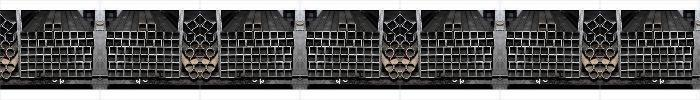pipe: (386, 20, 398, 31), (202, 20, 214, 31), (402, 20, 414, 31), (186, 20, 198, 31), (586, 20, 598, 31), (2, 20, 14, 31), (602, 20, 614, 31), (385, 63, 394, 72), (206, 63, 215, 72), (406, 63, 415, 72), (185, 63, 194, 72), (585, 63, 594, 72), (6, 63, 15, 72), (606, 63, 615, 72), (348, 53, 356, 62), (387, 33, 395, 42), (385, 49, 394, 57), (244, 53, 252, 62), (444, 53, 452, 62), (148, 53, 156, 62), (548, 53, 556, 62), (44, 53, 52, 62), (644, 53, 652, 62), (205, 33, 213, 42), (405, 33, 413, 42), (187, 33, 195, 42), (587, 33, 595, 42), (5, 33, 13, 42), (605, 33, 613, 42), (206, 49, 215, 57), (406, 49, 415, 57), (185, 49, 194, 57), (585, 49, 594, 57), (6, 49, 15, 57), (606, 49, 615, 57), (346, 39, 354, 47), (363, 39, 371, 47), (340, 46, 348, 54), (331, 54, 339, 62), (340, 54, 348, 62), (308, 62, 316, 70), (340, 62, 348, 70), (348, 62, 356, 70), (363, 62, 371, 70), (391, 41, 399, 49), (391, 56, 399, 64), (390, 70, 398, 78), (246, 39, 254, 47), (446, 39, 454, 47), (146, 39, 154, 47), (546, 39, 554, 47), (46, 39, 54, 47), (646, 39, 654, 47), (229, 39, 237, 47), (429, 39, 437, 47), (163, 39, 171, 47), (563, 39, 571, 47), (29, 39, 37, 47), (629, 39, 637, 47), (252, 46, 260, 54), (452, 46, 460, 54), (140, 46, 148, 54), (540, 46, 548, 54), (52, 46, 60, 54), (652, 46, 660, 54), (261, 54, 269, 62), (461, 54, 469, 62), (131, 54, 139, 62), (531, 54, 539, 62), (61, 54, 69, 62), (661, 54, 669, 62), (252, 54, 260, 62), (452, 54, 460, 62), (140, 54, 148, 62), (540, 54, 548, 62), (52, 54, 60, 62), (652, 54, 660, 62), (236, 54, 244, 62), (436, 54, 444, 62), (156, 54, 164, 62), (556, 54, 564, 62), (36, 54, 44, 62), (636, 54, 644, 62), (284, 62, 292, 70), (484, 62, 492, 70), (108, 62, 116, 70), (508, 62, 516, 70), (84, 62, 92, 70), (684, 62, 692, 70), (252, 62, 260, 70), (452, 62, 460, 70), (140, 62, 148, 70), (540, 62, 548, 70), (52, 62, 60, 70), (652, 62, 660, 70), (244, 62, 252, 70), (444, 62, 452, 70), (148, 62, 156, 70), (548, 62, 556, 70), (44, 62, 52, 70), (644, 62, 652, 70), (229, 62, 237, 70), (429, 62, 437, 70), (163, 62, 171, 70), (563, 62, 571, 70), (29, 62, 37, 70), (629, 62, 637, 70), (201, 41, 209, 49), (401, 41, 409, 49), (191, 41, 199, 49), (591, 41, 599, 49), (1, 41, 9, 49), (601, 41, 609, 49), (201, 56, 209, 64), (401, 56, 409, 64), (191, 56, 199, 64), (591, 56, 599, 64), (1, 56, 9, 64), (601, 56, 609, 64), (202, 70, 210, 78), (402, 70, 410, 78), (190, 70, 198, 78), (590, 70, 598, 78), (2, 70, 10, 78), (602, 70, 610, 78), (338, 24, 346, 31), (322, 31, 330, 38), (356, 54, 363, 62), (364, 55, 372, 62), (356, 62, 363, 70), (254, 24, 262, 31), (454, 24, 462, 31), (138, 24, 146, 31), (538, 24, 546, 31), (54, 24, 62, 31), (654, 24, 662, 31), (270, 31, 278, 38), (470, 31, 478, 38), (122, 31, 130, 38), (522, 31, 530, 38), (70, 31, 78, 38), (670, 31, 678, 38), (109, 46, 116, 54), (228, 55, 236, 62), (428, 55, 436, 62), (164, 55, 172, 62), (564, 55, 572, 62), (28, 55, 36, 62), (628, 55, 636, 62), (238, 62, 245, 70), (222, 62, 229, 70), (421, 62, 428, 70), (21, 62, 28, 70), (363, 31, 370, 38), (46, 24, 53, 31), (63, 31, 70, 38), (55, 31, 62, 38), (46, 31, 53, 38), (222, 31, 229, 38), (421, 31, 428, 38), (21, 31, 28, 38), (71, 38, 78, 45), (222, 55, 229, 62), (421, 55, 428, 62), (21, 55, 28, 62), (310, 46, 316, 54), (318, 46, 324, 54), (332, 47, 340, 53), (348, 47, 356, 53), (324, 54, 330, 62), (332, 63, 340, 69), (372, 62, 378, 70), (324, 70, 332, 76), (364, 70, 372, 76), (372, 71, 380, 77), (284, 46, 290, 54), (484, 46, 490, 54), (510, 46, 516, 54), (84, 46, 90, 54), (684, 46, 690, 54), (276, 46, 282, 54), (476, 46, 482, 54), (118, 46, 124, 54), (518, 46, 524, 54), (76, 46, 82, 54), (676, 46, 682, 54), (260, 47, 268, 53), (132, 47, 140, 53), (532, 47, 540, 53), (60, 47, 68, 53), (660, 47, 668, 53), (444, 47, 452, 53), (148, 47, 156, 53), (548, 47, 556, 53), (44, 47, 52, 53), (644, 47, 652, 53), (236, 47, 244, 53), (436, 47, 444, 53), (156, 47, 164, 53), (556, 47, 564, 53), (36, 47, 44, 53), (636, 47, 644, 53), (270, 54, 276, 62), (470, 54, 476, 62), (124, 54, 130, 62), (524, 54, 530, 62), (70, 54, 76, 62), (670, 54, 676, 62), (260, 63, 268, 69), (132, 63, 140, 69), (532, 63, 540, 69), (60, 63, 68, 69), (660, 63, 668, 69), (438, 62, 444, 70), (156, 62, 162, 70), (556, 62, 562, 70), (38, 62, 44, 70), (638, 62, 644, 70), (172, 62, 178, 70), (572, 62, 578, 70), (622, 62, 628, 70), (268, 70, 276, 76), (468, 70, 476, 76), (124, 70, 132, 76), (524, 70, 532, 76), (68, 70, 76, 76), (668, 70, 676, 76), (228, 70, 236, 76), (428, 70, 436, 76), (164, 70, 172, 76), (564, 70, 572, 76), (28, 70, 36, 76), (628, 70, 636, 76), (220, 71, 228, 77), (172, 71, 180, 77), (572, 71, 580, 77), (20, 71, 28, 77), (620, 71, 628, 77), (348, 24, 354, 31), (307, 31, 313, 38), (315, 31, 321, 38), (330, 31, 336, 38), (338, 31, 344, 38), (348, 31, 354, 38), (372, 31, 378, 38), (322, 38, 328, 45), (356, 47, 363, 53), (363, 48, 370, 54), (372, 55, 378, 62), (246, 24, 252, 31), (446, 24, 452, 31), (148, 24, 154, 31), (548, 24, 554, 31), (646, 24, 652, 31), (287, 31, 293, 38), (487, 31, 493, 38), (107, 31, 113, 38), (507, 31, 513, 38), (87, 31, 93, 38), (687, 31, 693, 38), (279, 31, 285, 38), (479, 31, 485, 38), (115, 31, 121, 38), (515, 31, 521, 38), (79, 31, 85, 38), (679, 31, 685, 38), (264, 31, 270, 38), (464, 31, 470, 38), (130, 31, 136, 38), (530, 31, 536, 38), (664, 31, 670, 38), (256, 31, 262, 38), (456, 31, 462, 38), (138, 31, 144, 38), (538, 31, 544, 38), (656, 31, 662, 38), (246, 31, 252, 38), (446, 31, 452, 38), (148, 31, 154, 38), (548, 31, 554, 38), (646, 31, 652, 38), (230, 31, 236, 38), (430, 31, 436, 38), (164, 31, 170, 38), (564, 31, 570, 38), (30, 31, 36, 38), (630, 31, 636, 38), (172, 31, 178, 38), (572, 31, 578, 38), (622, 31, 628, 38), (106, 39, 113, 45), (505, 39, 512, 45), (479, 39, 486, 45), (80, 39, 87, 45), (272, 38, 278, 45), (472, 38, 478, 45), (122, 38, 128, 45), (522, 38, 528, 45), (672, 38, 678, 45), (63, 40, 70, 46), (55, 40, 62, 46), (440, 40, 447, 46), (40, 40, 47, 46), (222, 40, 229, 46), (421, 40, 428, 46), (21, 40, 28, 46), (460, 47, 467, 53), (244, 47, 251, 53), (486, 54, 493, 60), (107, 54, 114, 60), (172, 55, 178, 62), (572, 55, 578, 62), (622, 55, 628, 62), (460, 63, 467, 69), (486, 70, 493, 76), (107, 70, 114, 76), (116, 70, 123, 76), (453, 70, 460, 76), (54, 70, 61, 76), (46, 70, 53, 76), (421, 71, 428, 77), (467, 47, 474, 53), (125, 47, 132, 53), (356, 32, 362, 38), (306, 39, 312, 45), (314, 39, 320, 45), (330, 40, 336, 46), (338, 40, 344, 46), (354, 40, 360, 46), (372, 40, 378, 46), (308, 54, 314, 60), (317, 54, 323, 60), (317, 62, 323, 68), (325, 62, 331, 68), (308, 70, 314, 76), (316, 70, 322, 76), (332, 70, 338, 76), (340, 70, 346, 76), (348, 70, 354, 76), (357, 70, 363, 76), (326, 47, 332, 53), (238, 32, 244, 38), (438, 32, 444, 38), (156, 32, 162, 38), (556, 32, 562, 38), (38, 32, 44, 38), (638, 32, 644, 38), (288, 39, 294, 45), (488, 39, 494, 45), (88, 39, 94, 45), (688, 39, 694, 45), (280, 39, 286, 45), (114, 39, 120, 45), (514, 39, 520, 45), (680, 39, 686, 45), (264, 40, 270, 46), (464, 40, 470, 46), (130, 40, 136, 46), (530, 40, 536, 46), (664, 40, 670, 46), (256, 40, 262, 46), (456, 40, 462, 46), (138, 40, 144, 46), (538, 40, 544, 46), (656, 40, 662, 46), (240, 40, 246, 46), (154, 40, 160, 46), (554, 40, 560, 46), (640, 40, 646, 46), (172, 40, 178, 46), (572, 40, 578, 46), (622, 40, 628, 46), (230, 48, 236, 54), (430, 48, 436, 54), (164, 48, 170, 54), (564, 48, 570, 54), (30, 48, 36, 54), (630, 48, 636, 54), (286, 54, 292, 60), (508, 54, 514, 60), (86, 54, 92, 60), (686, 54, 692, 60), (277, 54, 283, 60), (477, 54, 483, 60), (117, 54, 123, 60), (517, 54, 523, 60), (77, 54, 83, 60), (677, 54, 683, 60), (277, 62, 283, 68), (477, 62, 483, 68), (117, 62, 123, 68), (517, 62, 523, 68), (77, 62, 83, 68), (677, 62, 683, 68), (269, 62, 275, 68), (469, 62, 475, 68), (125, 62, 131, 68), (525, 62, 531, 68), (69, 62, 75, 68), (669, 62, 675, 68), (286, 70, 292, 76), (508, 70, 514, 76), (86, 70, 92, 76), (686, 70, 692, 76), (278, 70, 284, 76), (478, 70, 484, 76), (516, 70, 522, 76), (78, 70, 84, 76), (678, 70, 684, 76), (262, 70, 268, 76), (462, 70, 468, 76), (132, 70, 138, 76), (532, 70, 538, 76), (62, 70, 68, 76), (662, 70, 668, 76), (254, 70, 260, 76), (140, 70, 146, 76), (540, 70, 546, 76), (654, 70, 660, 76), (246, 70, 252, 76), (446, 70, 452, 76), (148, 70, 154, 76), (548, 70, 554, 76), (646, 70, 652, 76), (237, 70, 243, 76), (437, 70, 443, 76), (157, 70, 163, 76), (557, 70, 563, 76), (37, 70, 43, 76), (637, 70, 643, 76), (268, 47, 274, 53), (526, 47, 532, 53), (68, 47, 74, 53), (668, 47, 674, 53), (372, 48, 378, 52), (222, 48, 228, 52), (422, 48, 428, 52), (172, 48, 178, 52), (572, 48, 578, 52), (22, 48, 28, 52), (622, 48, 628, 52)
